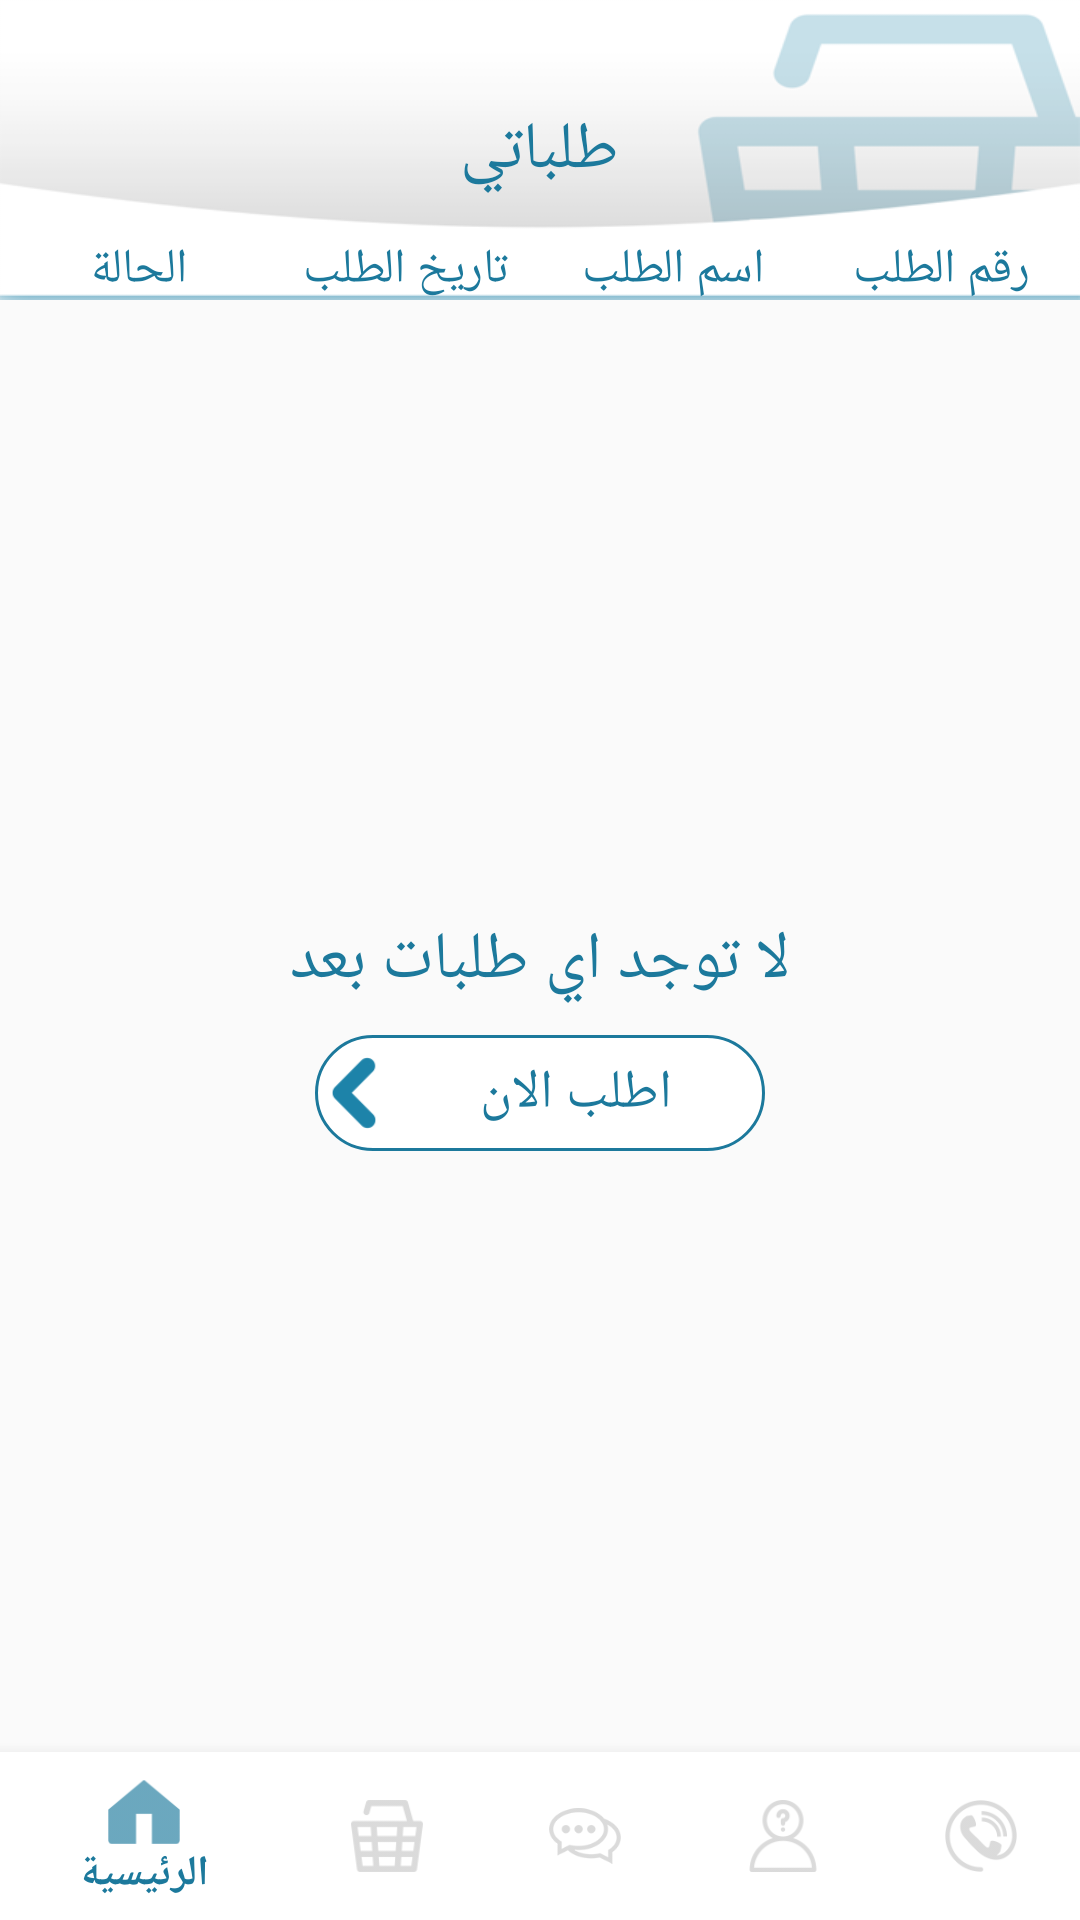

Named icons in this screenshot (1080x1920) and their centers, (x=x, y=y):
go arrow: (x=354, y=1093)
